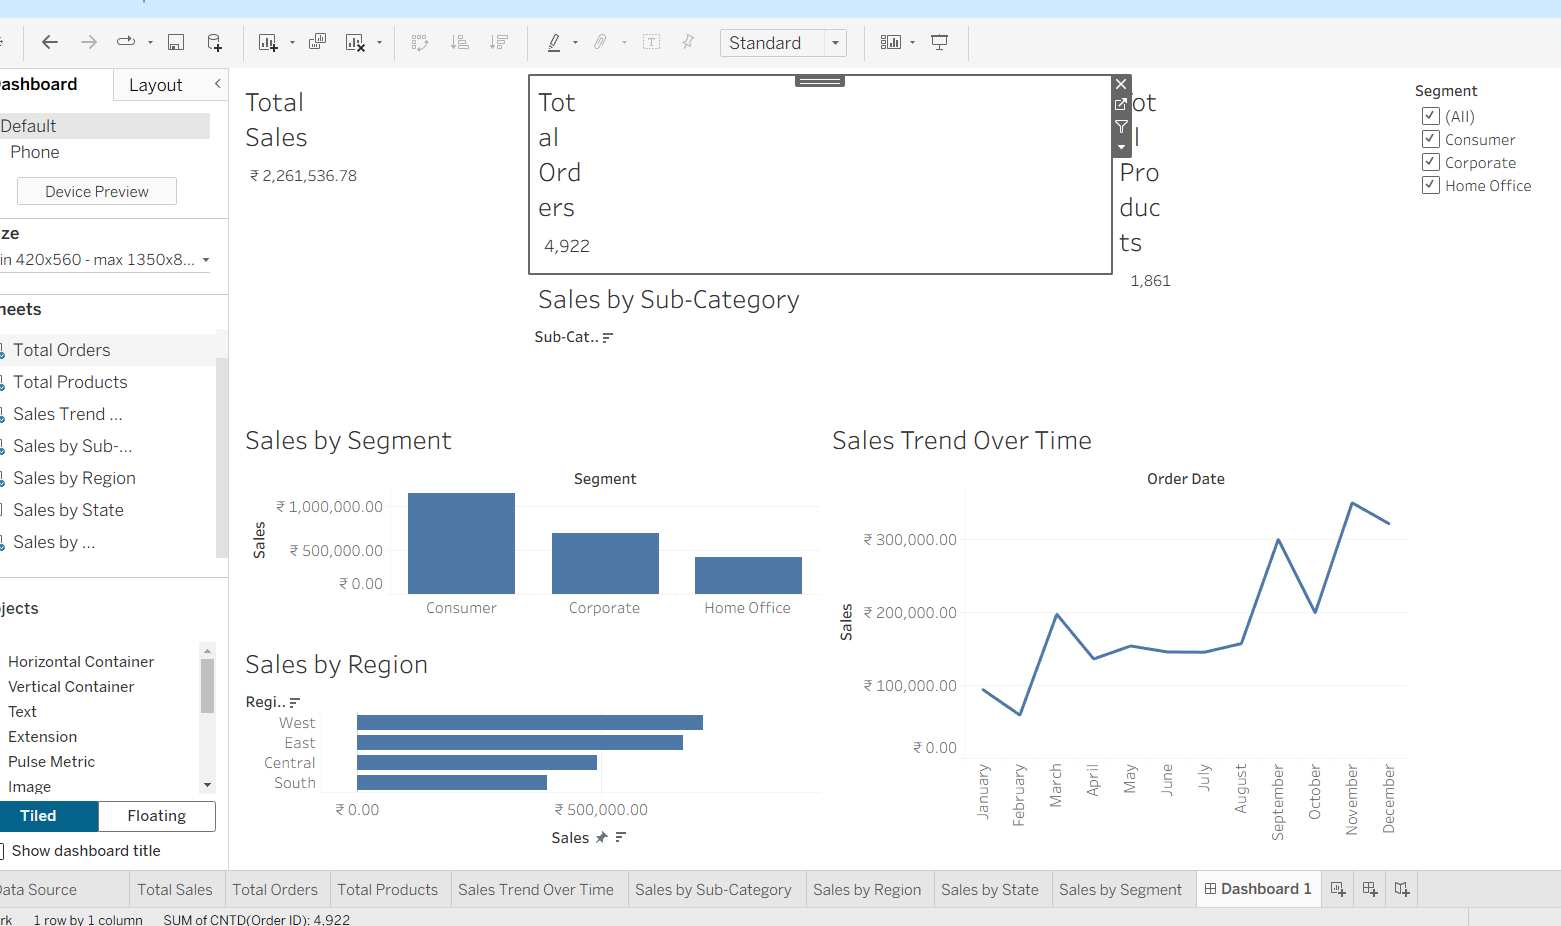

This screenshot's page, from the dashboard's own definition file:
{"tool":"tableau","page":{"name":"Dashboard 1","canvas":[1000,1000],"units":"permille","ordinal":0},"visuals":[{"type":"worksheet","title":"Total Sales","mark":"Automatic","box":[5.9,10,217.4,421.4]},{"type":"worksheet","title":"Total Orders","mark":"Automatic","box":[223.3,10,430,245]},{"type":"worksheet","title":"Total Products","mark":"Automatic","box":[653.3,10,222.2,421.4]},{"type":"filter","title":"Sales by Segment","param":"[federated.12y6mt70olm2vt1gve1u702m08ck].[none:Segment:nk]","box":[875.6,10,118.5,159.6]},{"type":"worksheet","title":"Sales by Sub-Category","mark":"Automatic","rows":["Sub-Category"],"cols":["Sales"],"box":[223.3,255,430,176.4]},{"type":"worksheet","title":"Sales by Segment","mark":"Automatic","rows":["Sales"],"cols":["Segment"],"box":[5.9,431.4,434.8,279.3]},{"type":"worksheet","title":"Sales Trend Over Time","mark":"Automatic","rows":["Sales"],"cols":["Order Date"],"box":[440.7,431.4,434.8,558.6]},{"type":"worksheet","title":"Sales by Region","mark":"Automatic","rows":["Region"],"cols":["Sales"],"box":[5.9,710.7,434.8,279.3]}]}

Visuals, with their boxes on the dashboard's canvas, which has no fixed pixel size, in thousandths of its width and height (x1, y1, x2, y2). These are canvas units, not pixel positions in the 1561x926 screenshot, which may show the page scaled, cropped or inside an application window:
"Total Sales" worksheet: locate(6, 10, 223, 431)
"Total Orders" worksheet: locate(223, 10, 653, 255)
"Total Products" worksheet: locate(653, 10, 876, 431)
"Sales by Segment" filter: locate(876, 10, 994, 170)
"Sales by Sub-Category" worksheet: locate(223, 255, 653, 431)
"Sales by Segment" worksheet: locate(6, 431, 441, 711)
"Sales Trend Over Time" worksheet: locate(441, 431, 876, 990)
"Sales by Region" worksheet: locate(6, 711, 441, 990)
